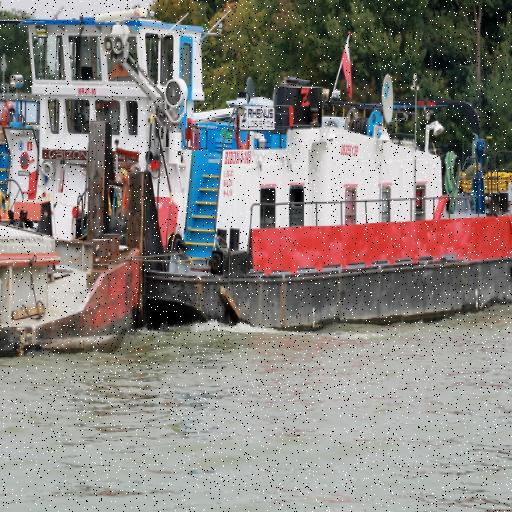tugboat: (1, 2, 512, 348)
